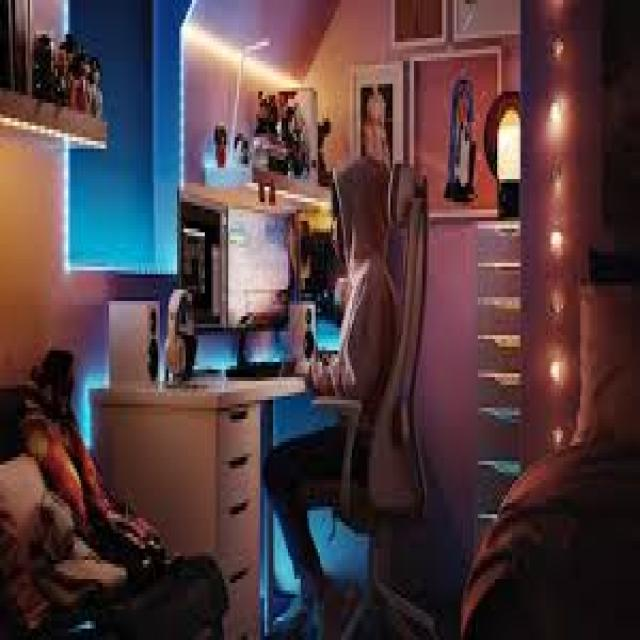chair: (284, 156, 471, 640)
